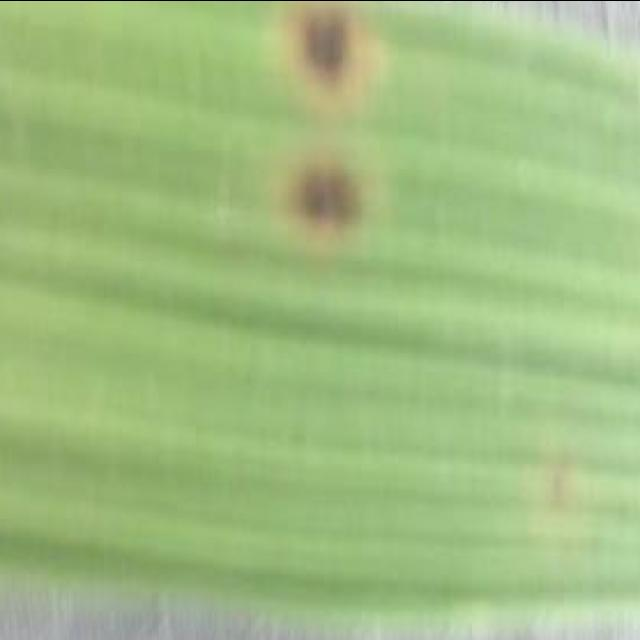Brown_Spot: (264, 140, 394, 270), (258, 0, 398, 113), (536, 448, 596, 530), (615, 498, 640, 537)
